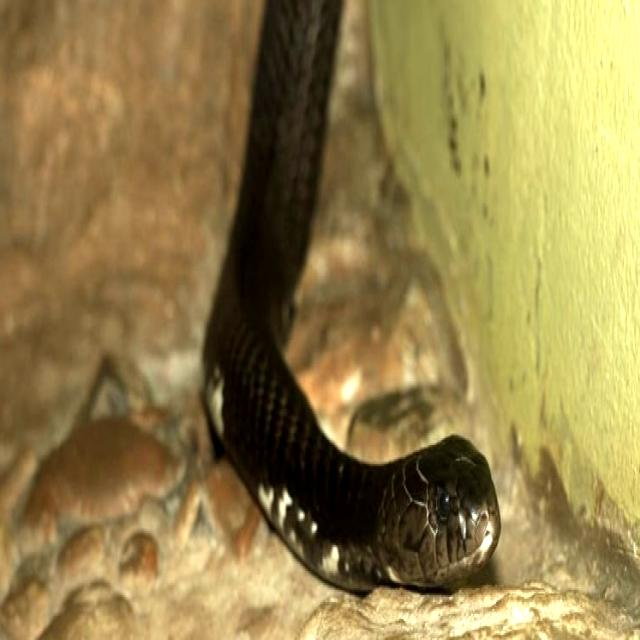Naja siamensis: (204, 0, 500, 591)
